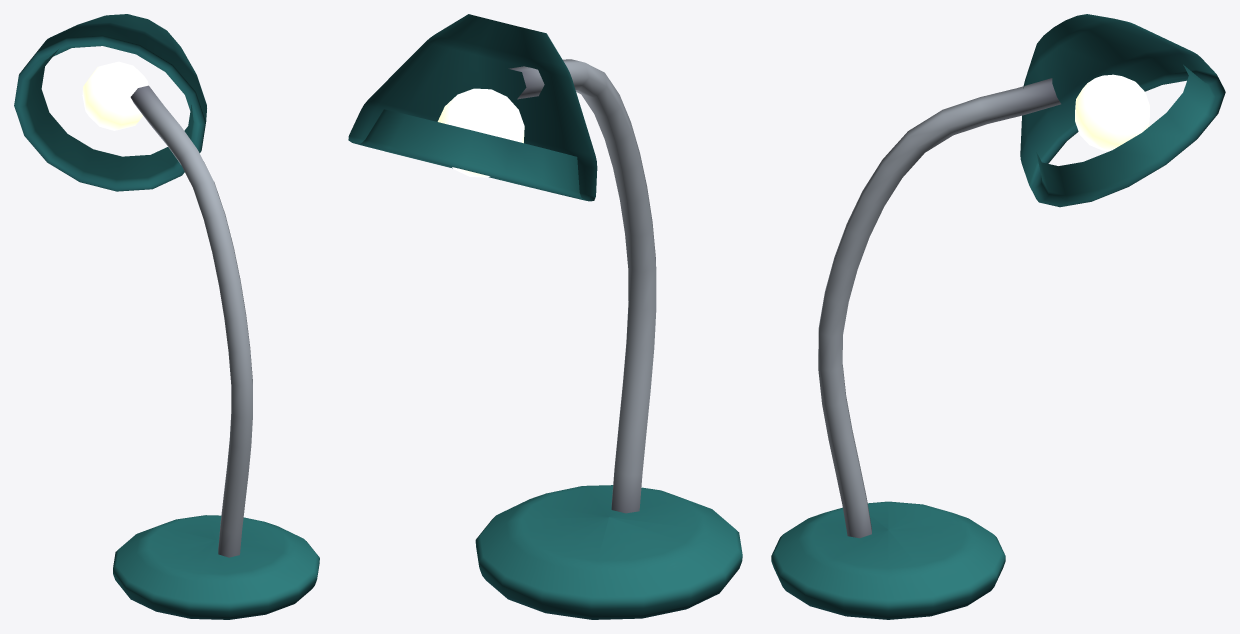
The model's file is nm_desk_lamp__056.glb.
3 renders of one model, left to right at view 1: azimuth 30°, elevation 25°; view 2: azimuth 150°, elevation 25°; view 3: azimuth 270°, elevation 25°, orthographic. The views are drawn at different scales.
Visible parts, largest first — view 1: merged_toon_ffffff, prop_nm_desk_lamp, group; view 2: merged_toon_ffffff, prop_nm_desk_lamp, group; view 3: merged_toon_ffffff, prop_nm_desk_lamp, group.
Part boxes in pixels (bbox=[...]): merged_toon_ffffff: bbox=[14, 14, 319, 619]; prop_nm_desk_lamp: bbox=[130, 85, 252, 557]; group: bbox=[82, 61, 148, 130]; merged_toon_ffffff: bbox=[348, 14, 742, 619]; prop_nm_desk_lamp: bbox=[508, 59, 656, 513]; group: bbox=[437, 88, 524, 177]; merged_toon_ffffff: bbox=[771, 14, 1225, 619]; prop_nm_desk_lamp: bbox=[818, 78, 1060, 538]; group: bbox=[1075, 74, 1149, 151].
Bounding box in the file's own units: 0.1671 × 0.4359 × 0.3238.
